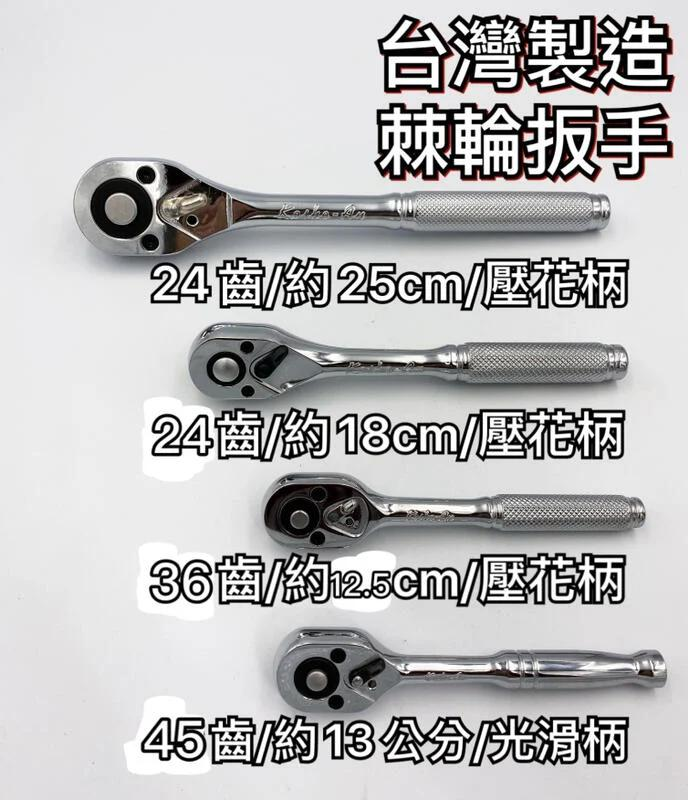Tool: (62, 146, 249, 264), (268, 623, 415, 716), (189, 312, 327, 406), (260, 475, 386, 553)
